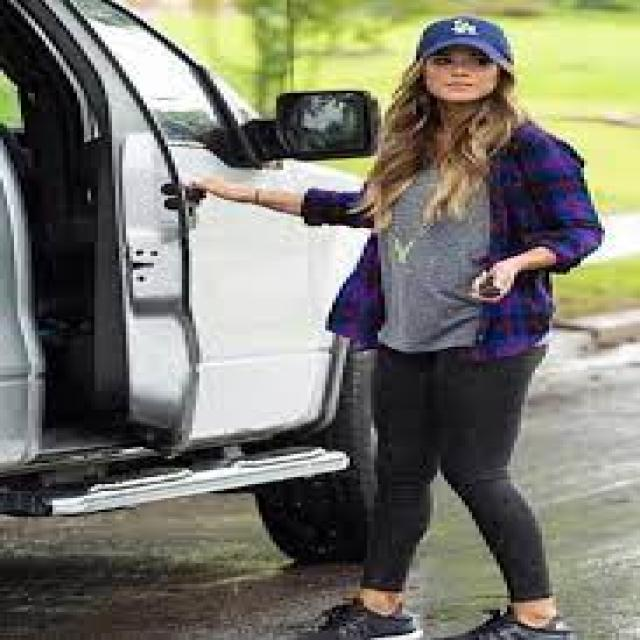cap: (406, 5, 521, 102)
